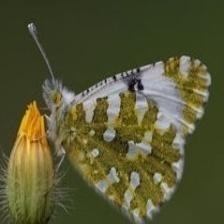butterfly: (44, 56, 212, 224)
